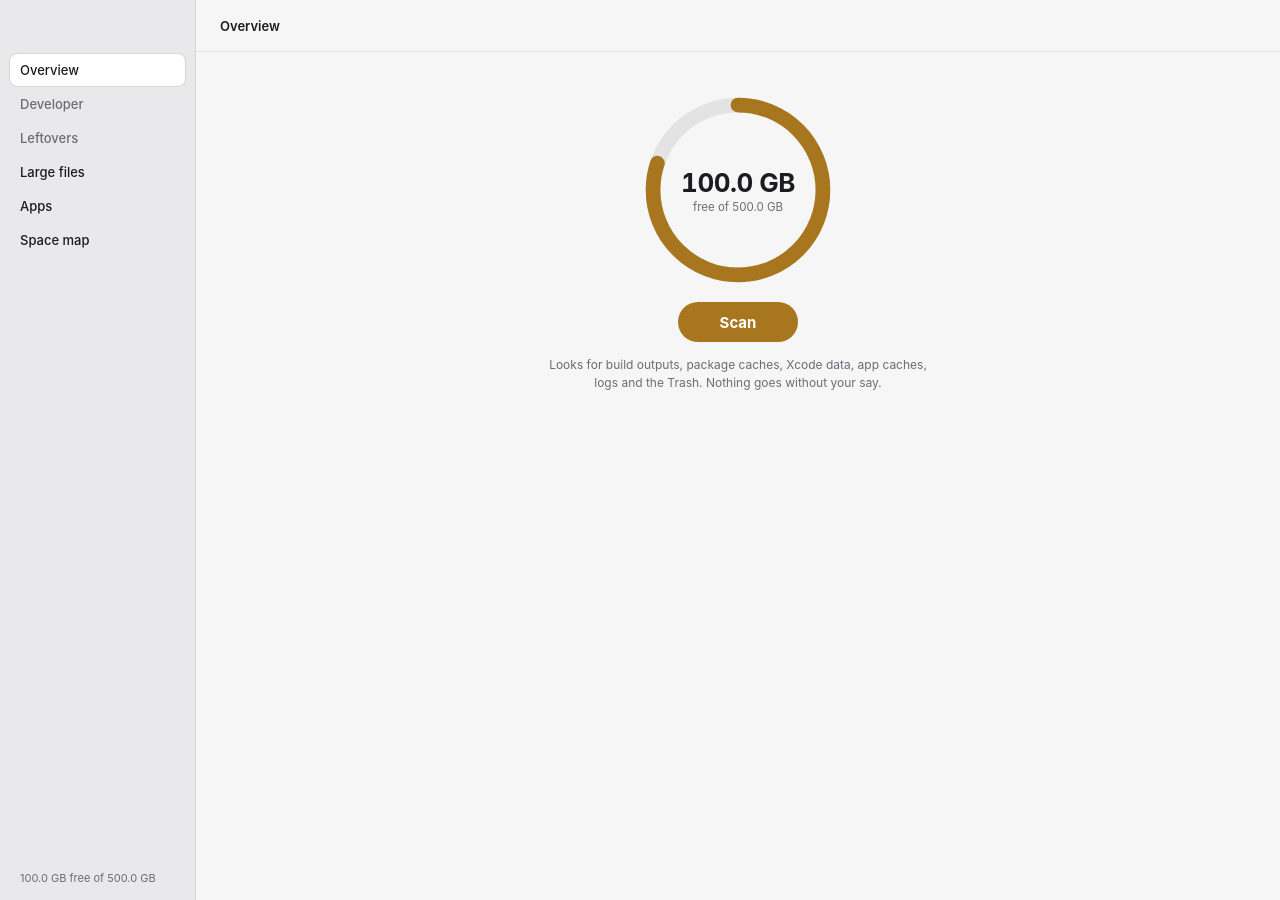
Scenario: the cleaner window › shows the disk, and scans only when asked
The image size is (1280, 900).
Check: the text "100.0 GB" is shown, box top-left (681, 166), bottom-right (795, 198)
Check: the text "free of 500.0 GB" is shown, box top-left (693, 200), bottom-right (783, 214)
Click the button "Scan". click: [738, 322]
box: top-left (678, 302), bottom-right (798, 342)
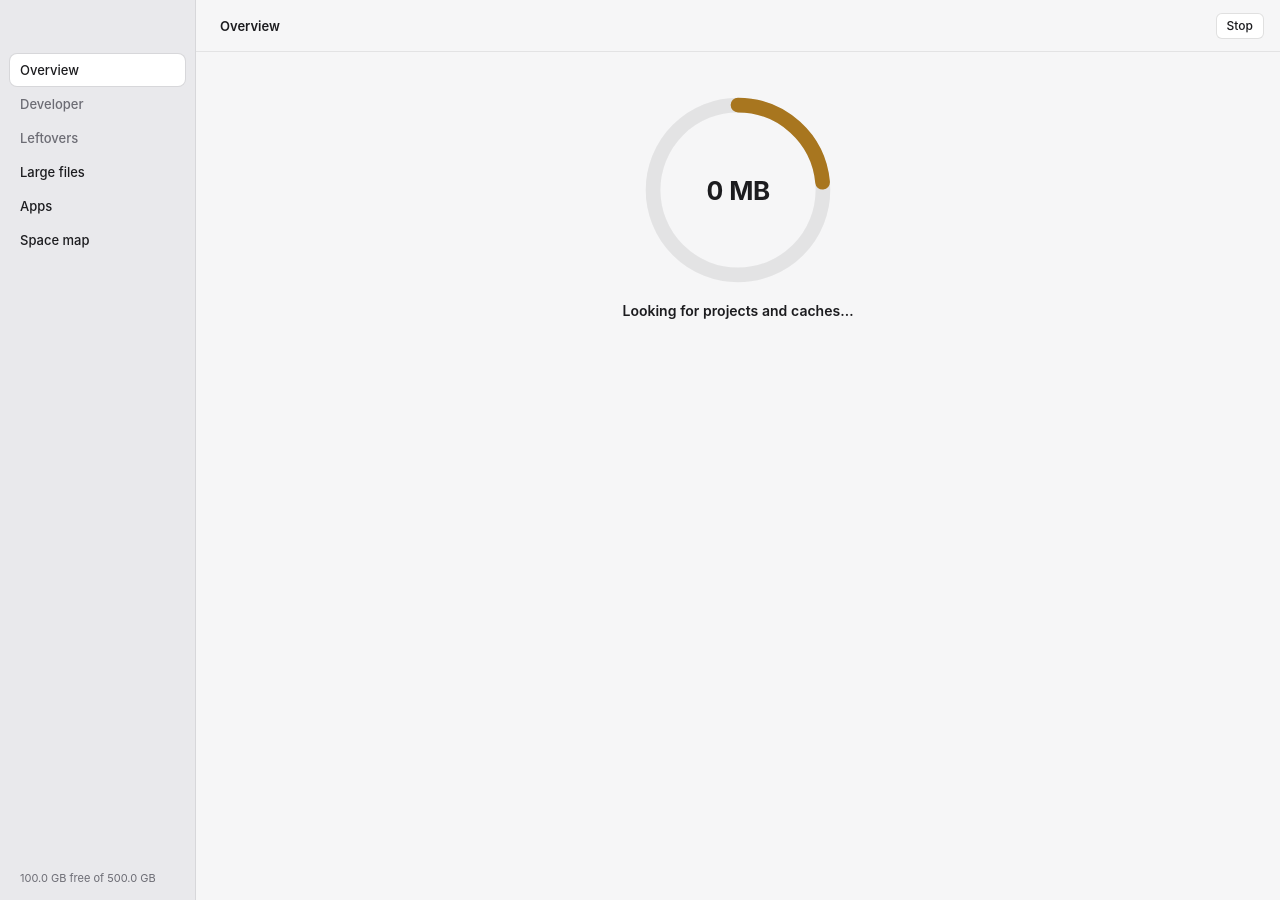
Check: the text "Looking for projects and caches…" is shown, box top-left (622, 302), bottom-right (854, 319)
